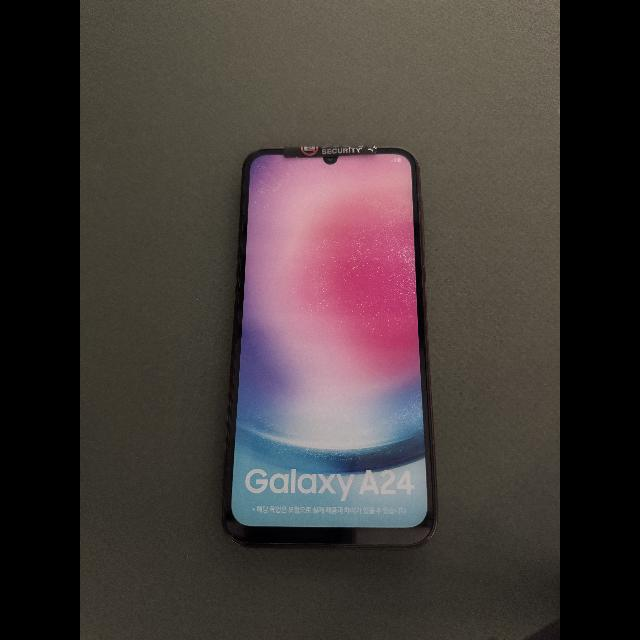lens: (327, 157, 335, 161)
phone: (222, 144, 436, 548)
sticker: (283, 146, 378, 159)
